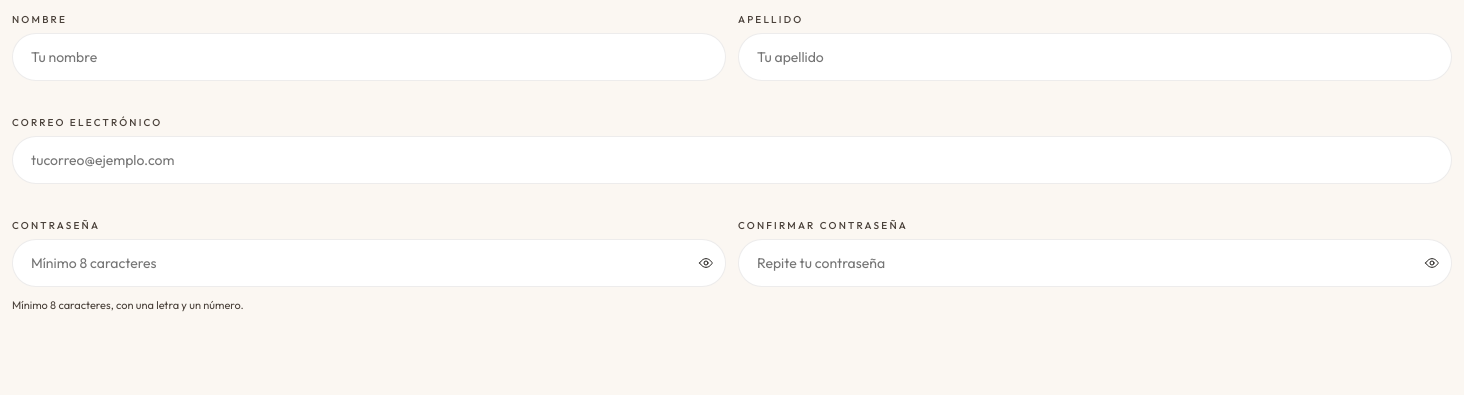
Scenario: RegisterForm › shows the backend message on a 400 ApiError
Type "Sharon" into the field with placeholder "Tu nombre" at (369, 57), box [12, 33, 726, 81]
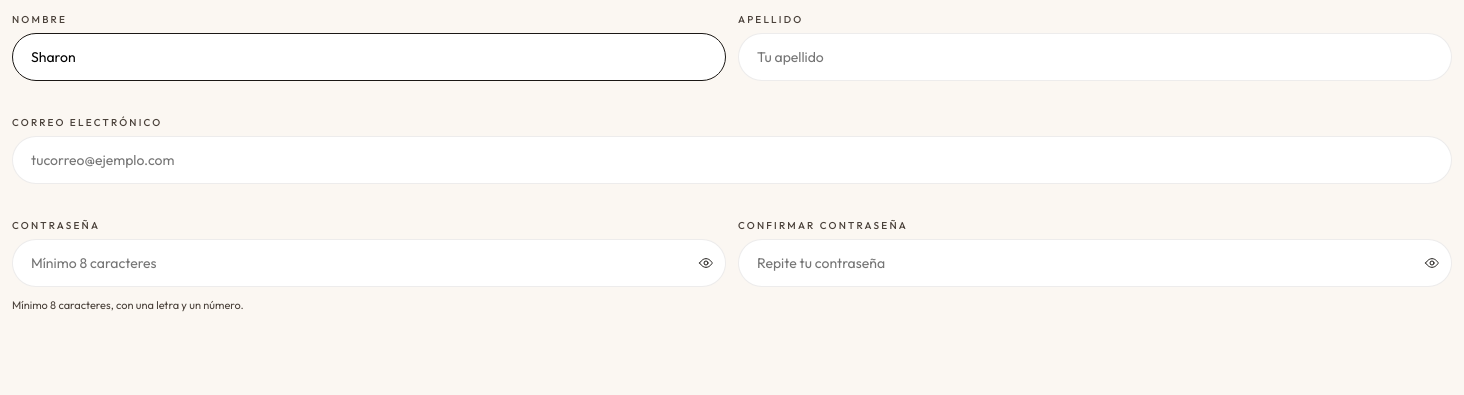
Type "Rojas" into the field with placeholder "Tu apellido" at (1095, 57), box [738, 33, 1452, 81]
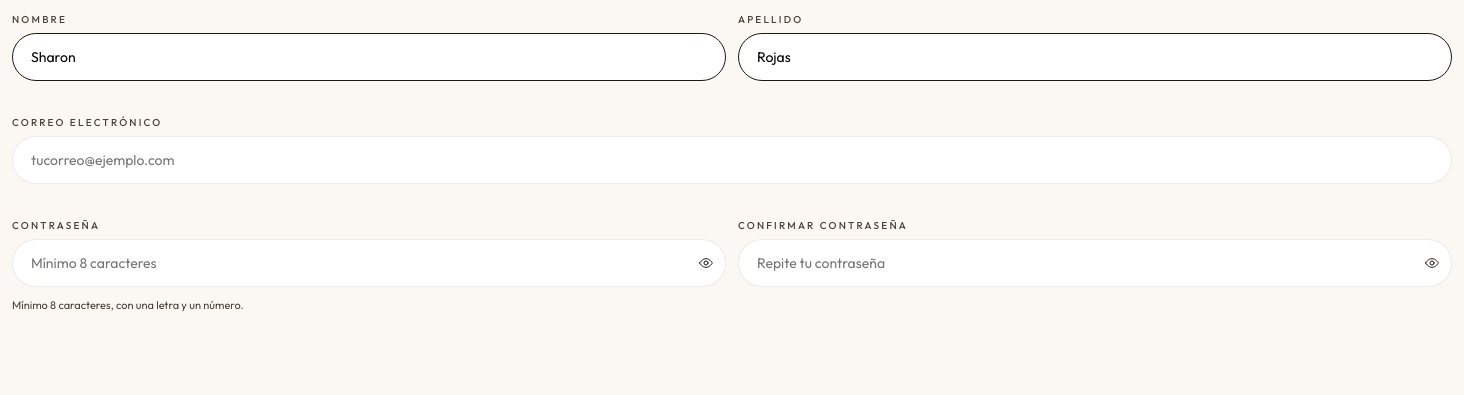
Type "sharon@ejemplo.com" into the field with placeholder "tucorreo@ejemplo.com" at (732, 160), box [12, 136, 1452, 184]
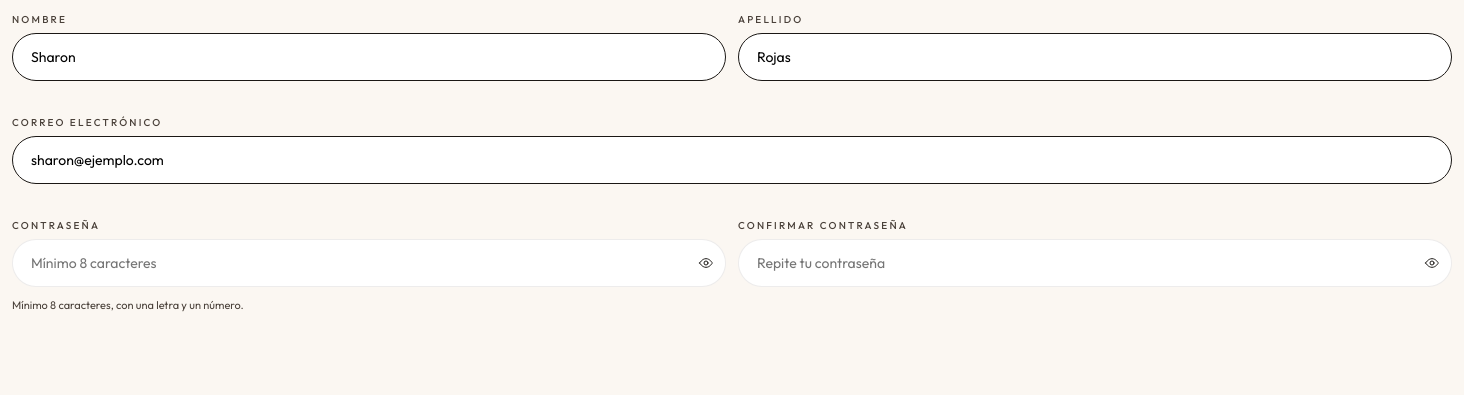
Type "clave1234" into the password field with placeholder "Mínimo 8 caracteres" at (369, 263), box [12, 239, 726, 287]
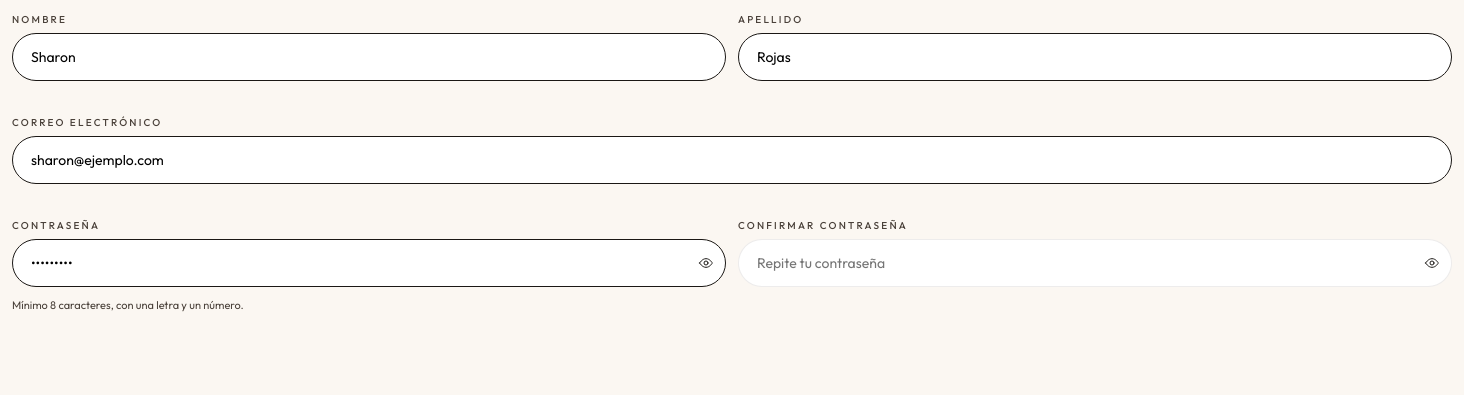
Type "clave1234" into the password field with placeholder "Repite tu contraseña" at (1095, 263), box [738, 239, 1452, 287]
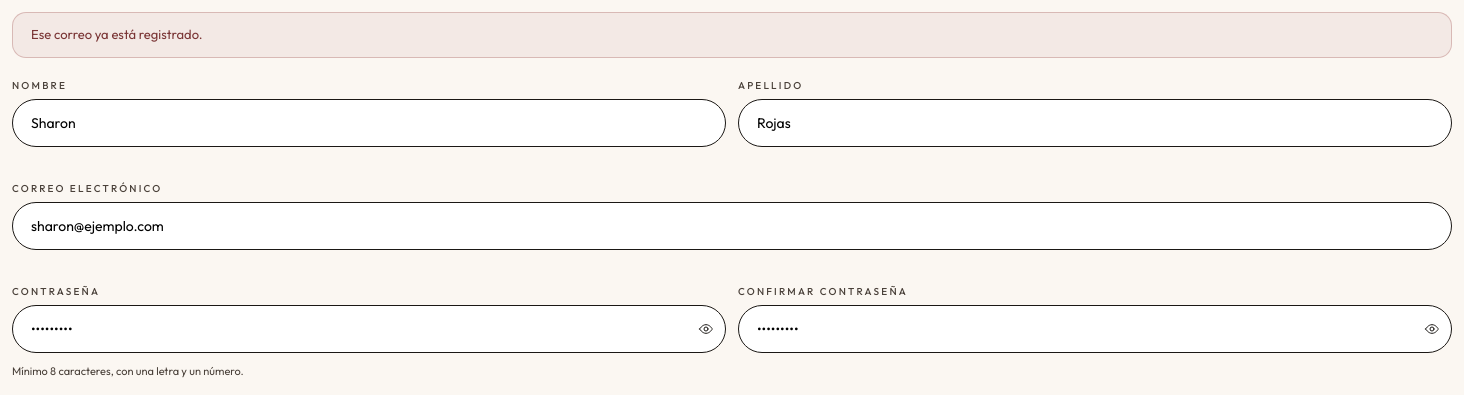
Check: the text "Ese correo ya está registrado." is shown, box [12, 12, 1452, 58]
